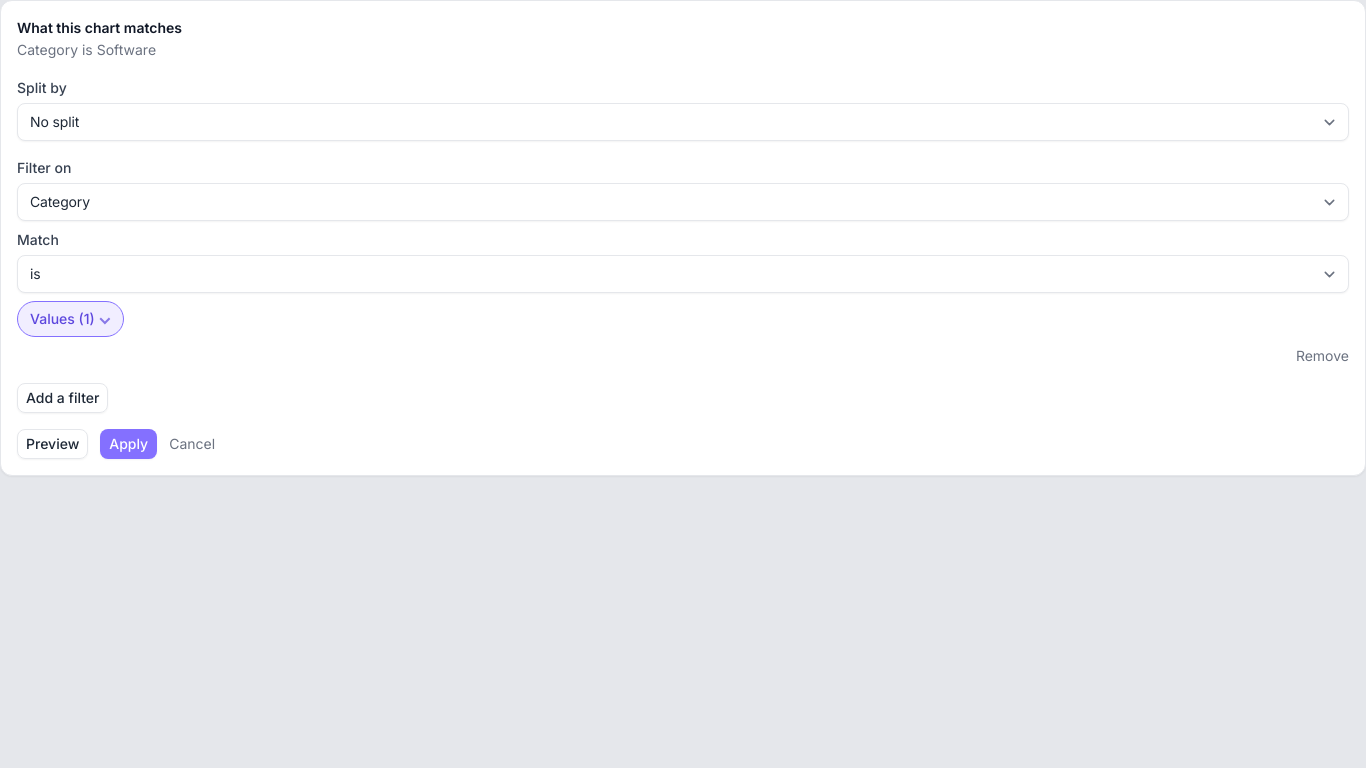
Scenario: ChartRuleEditor › adds a row
Click the button with test id "rule-add-clause" at (63, 398), box [17, 383, 108, 413]
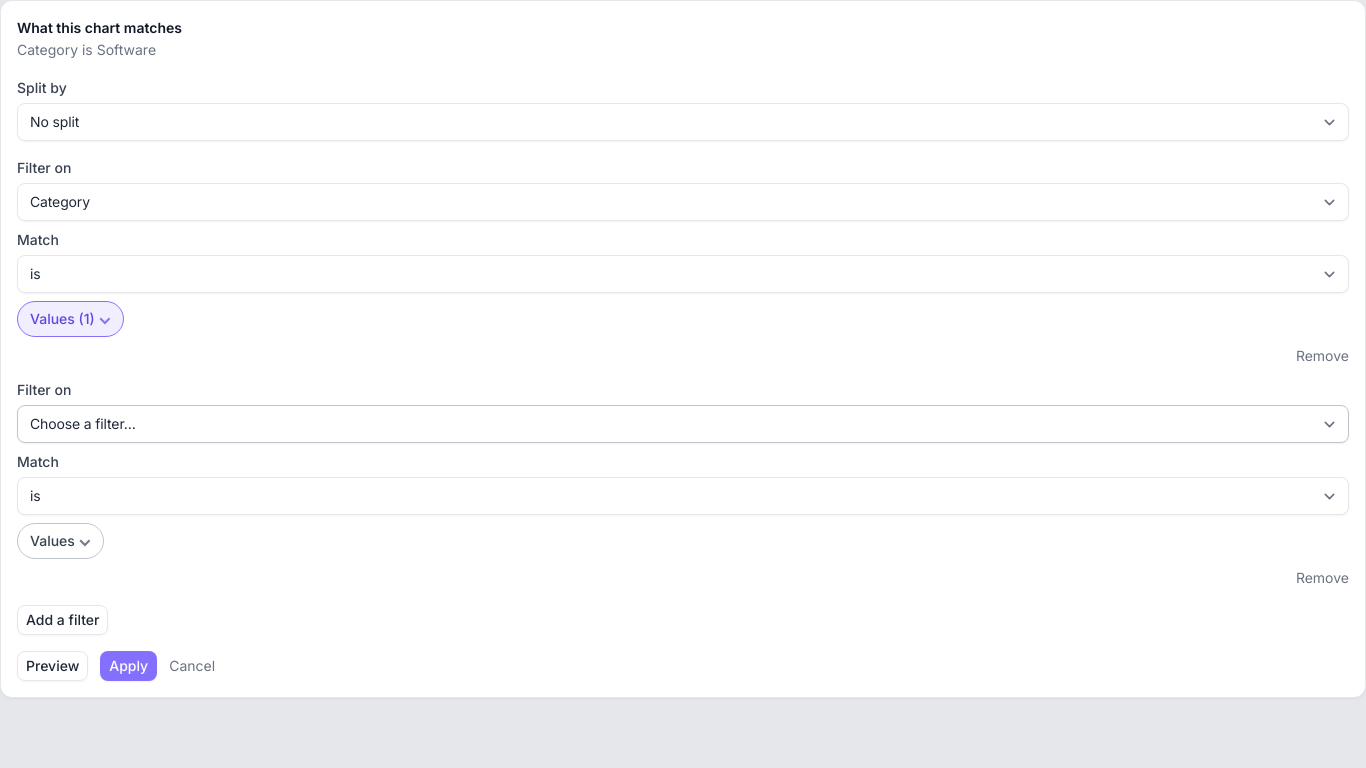
Check: the number of list items with test id "rule-editor-row" is 2, box [17, 157, 1349, 367]; [17, 379, 1349, 589]
